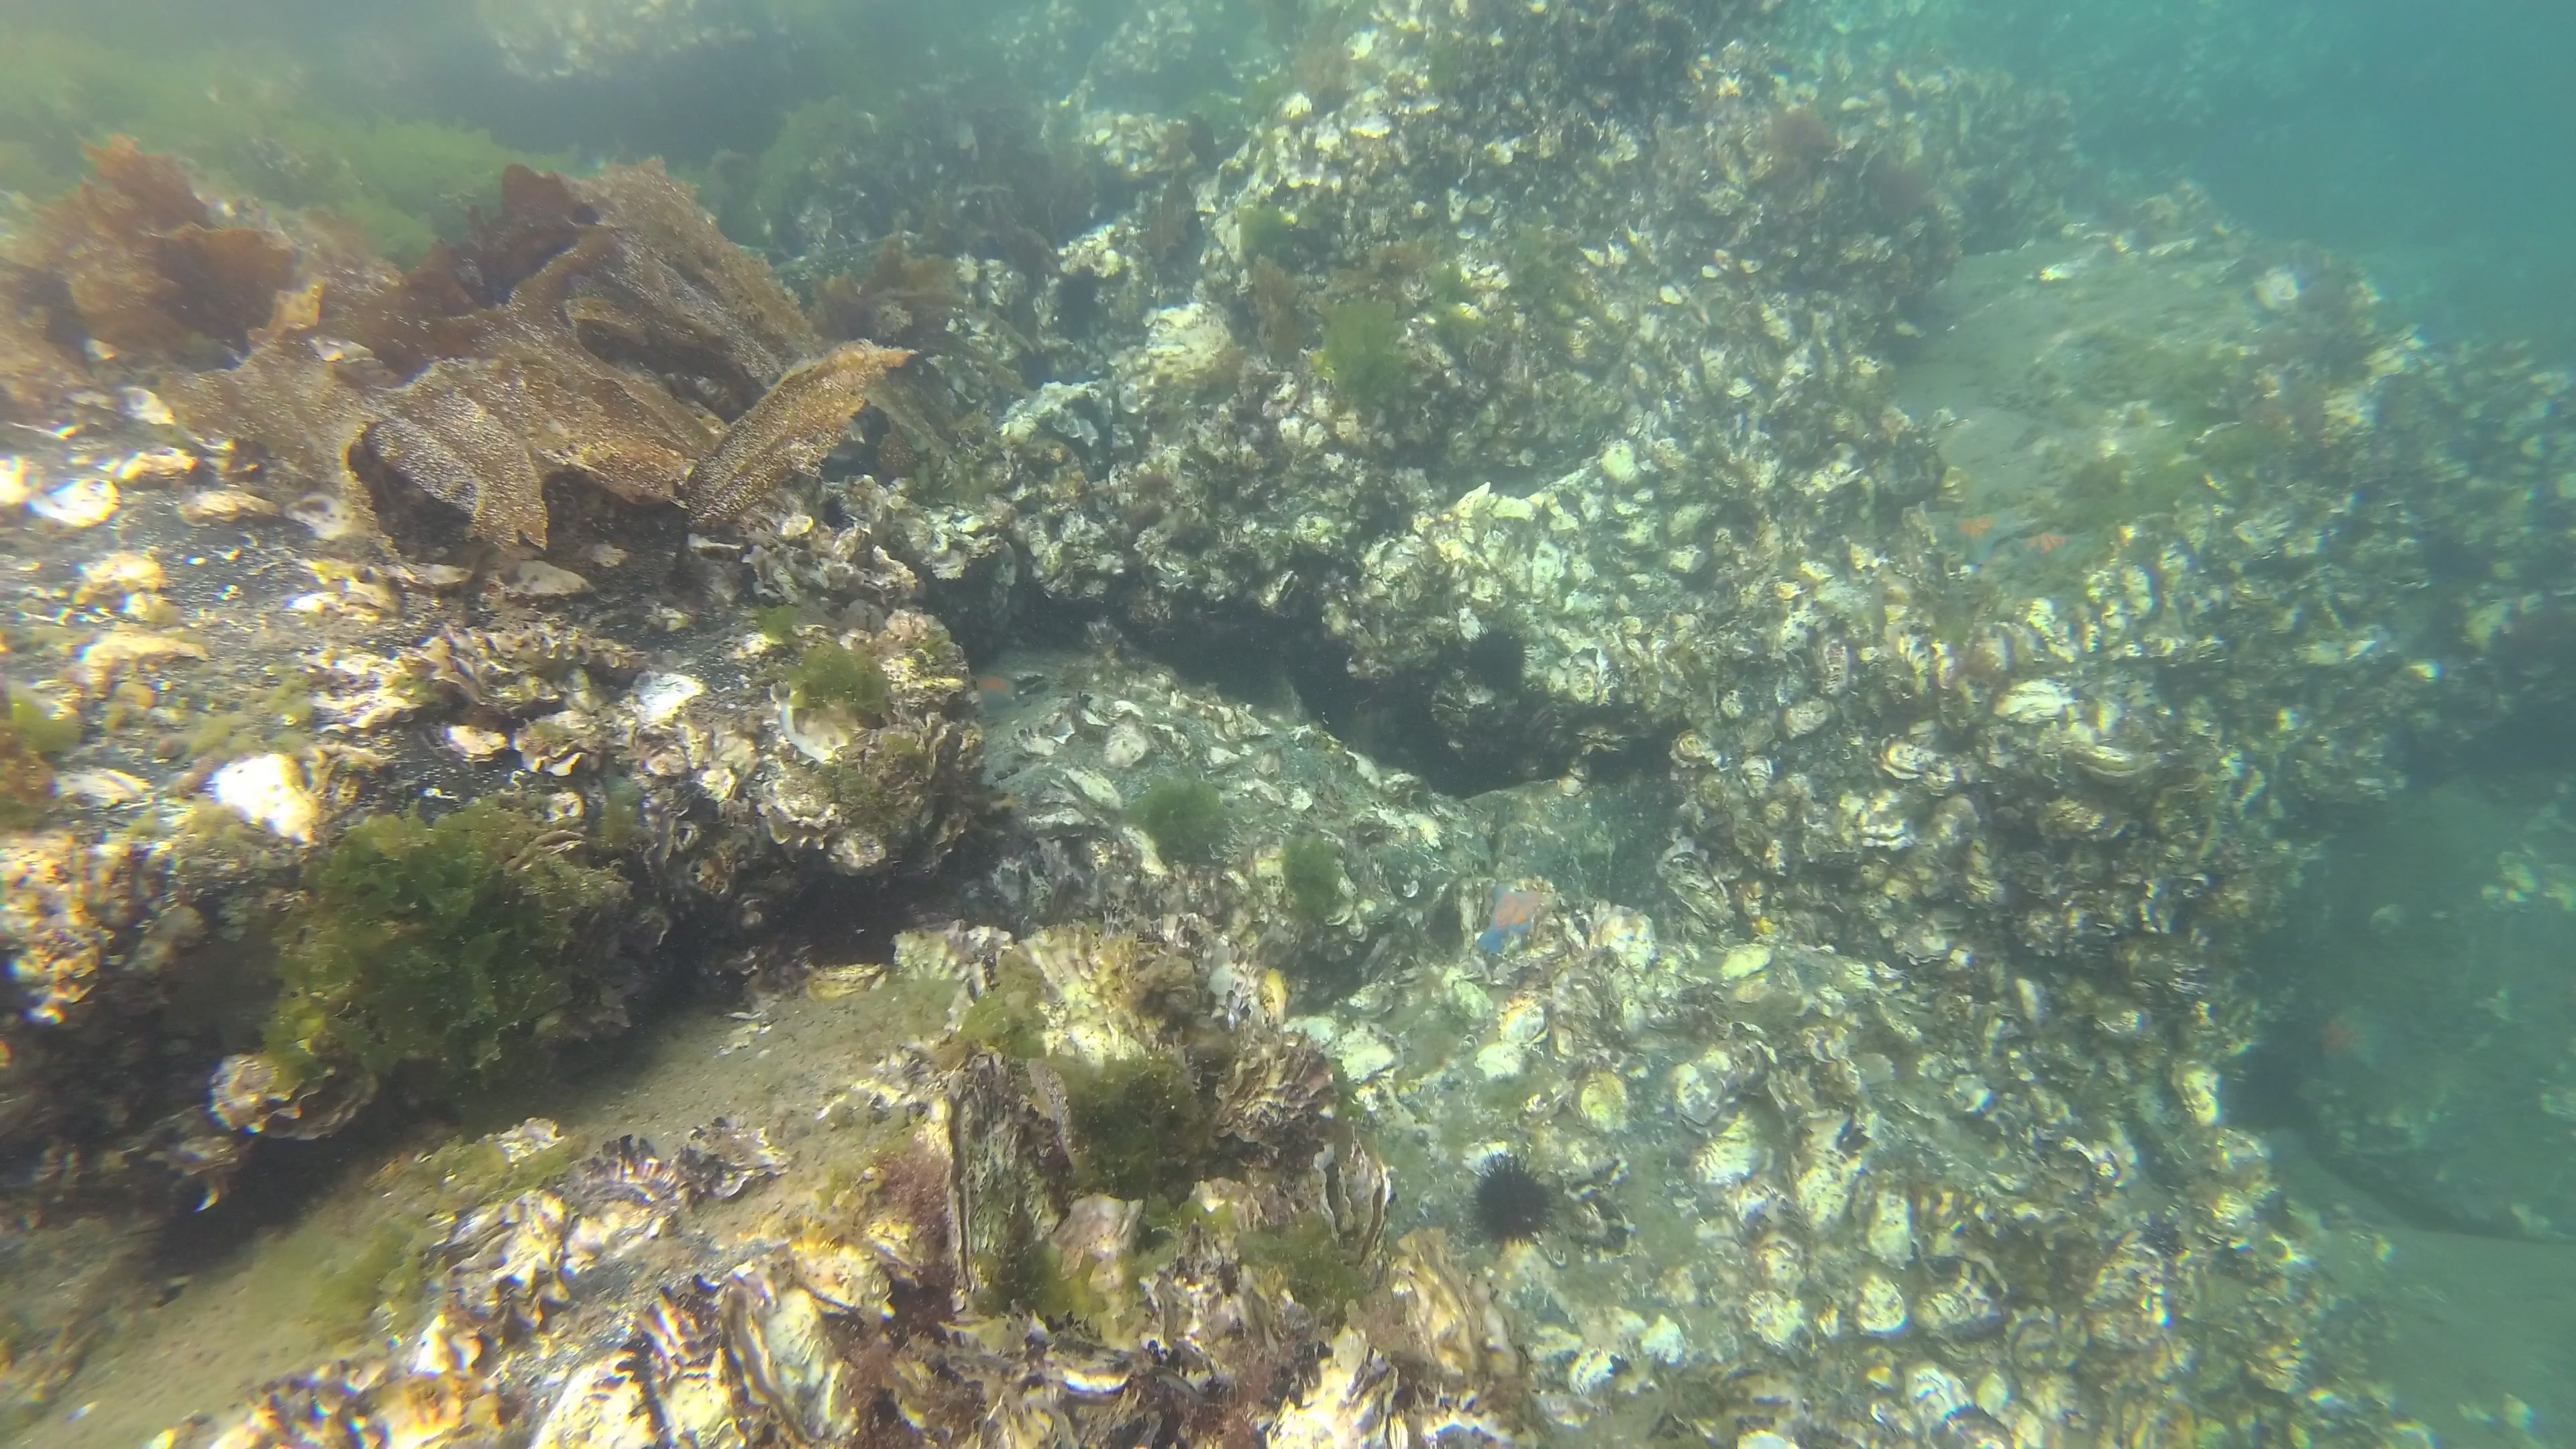echinus: (1465, 1152, 1562, 1246), (1458, 628, 1536, 699)
starfish: (1479, 878, 1564, 961), (943, 656, 1028, 740), (1951, 487, 2043, 559), (2316, 1019, 2385, 1077), (2013, 529, 2089, 575)
